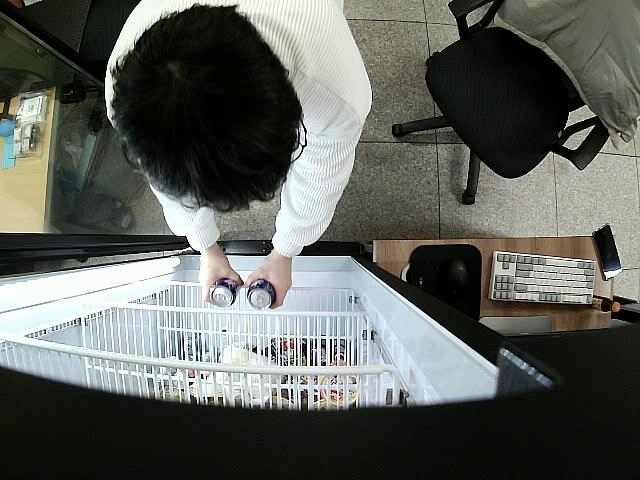14_welchsGrape: (246, 279, 276, 310), (210, 280, 238, 307)
